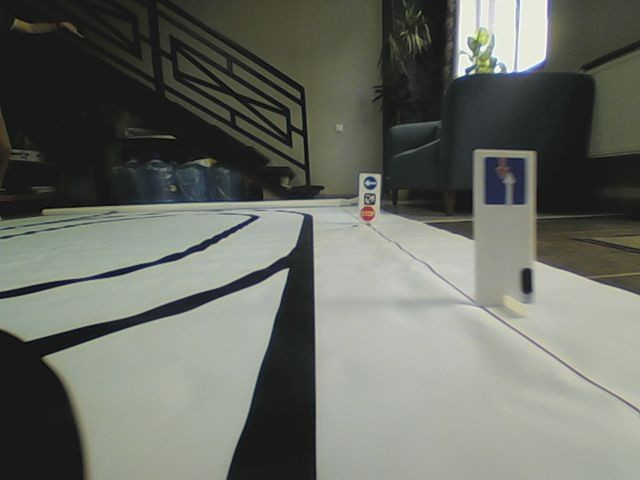Stop: (359, 206, 377, 222)
priority_movement: (483, 155, 525, 205)
